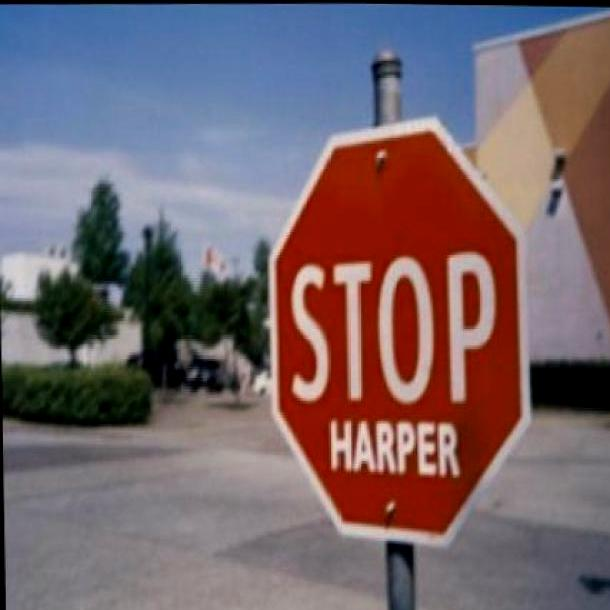stop_sign: (269, 118, 531, 554)
